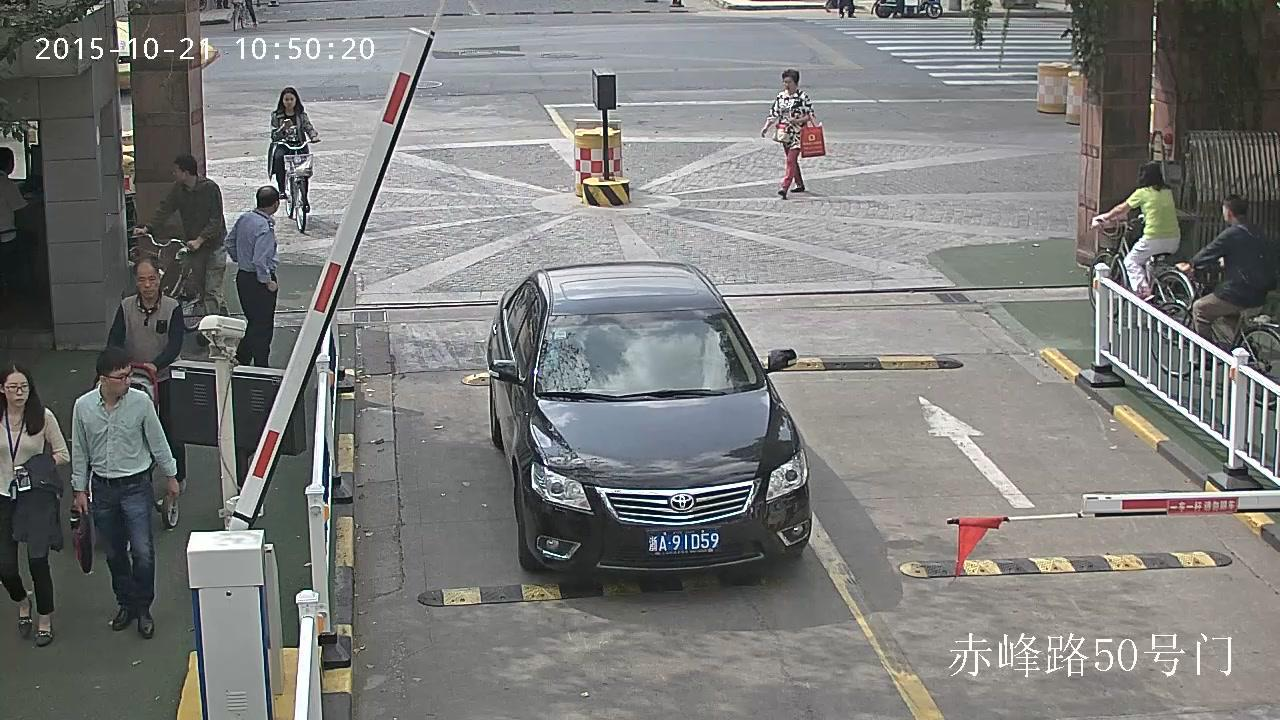face: (4, 372, 29, 406), (137, 262, 160, 297), (107, 366, 129, 394), (283, 93, 295, 110), (173, 164, 183, 184), (782, 77, 795, 90), (1222, 204, 1228, 223)
